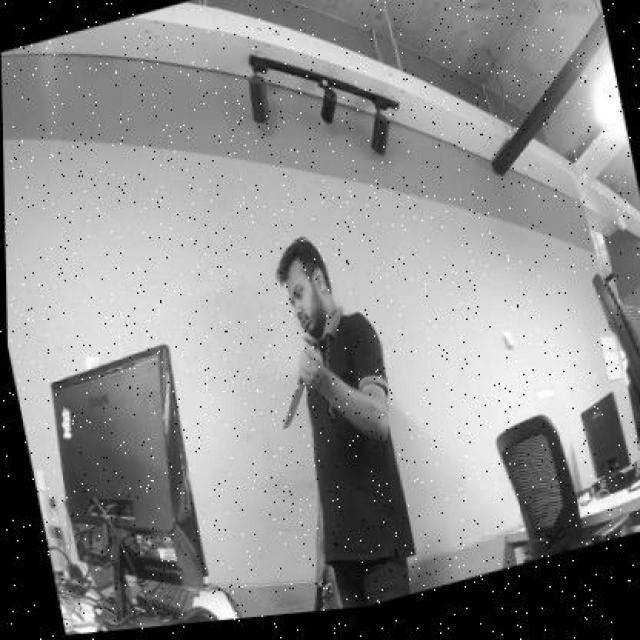weapon: (313, 567, 332, 610)
